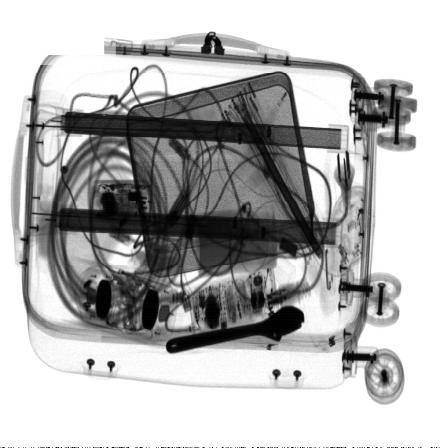Wrench: (166, 305, 304, 354)
